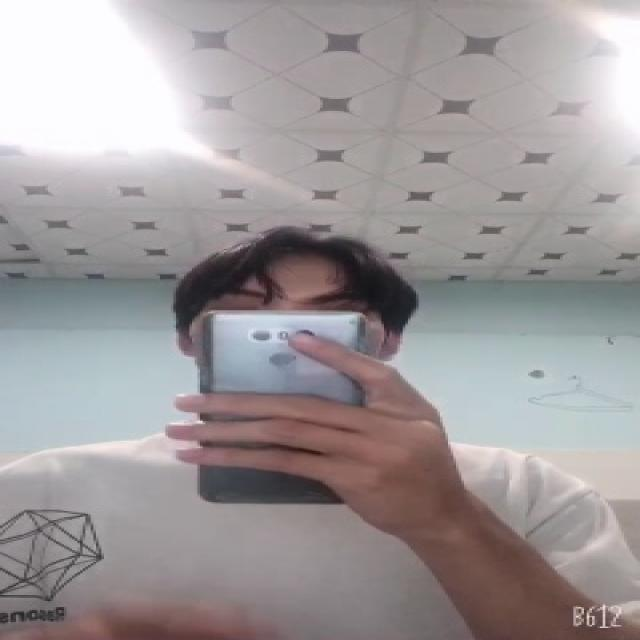Phone: (194, 309, 372, 508)
